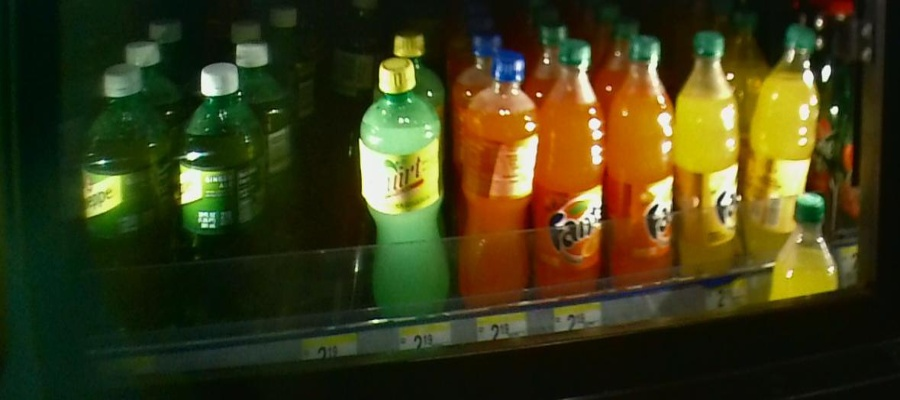bottle: (173, 58, 266, 339), (80, 61, 172, 344), (357, 60, 453, 315), (464, 56, 537, 314), (748, 27, 820, 277), (610, 37, 672, 302), (536, 44, 599, 302), (680, 30, 738, 302)
